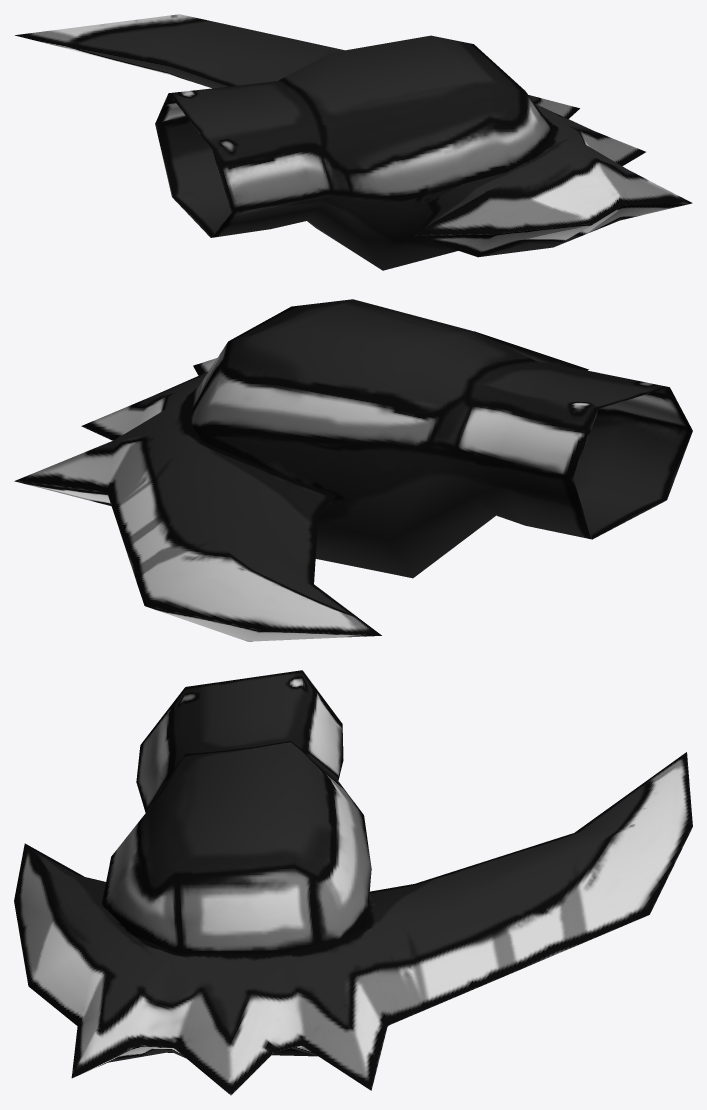
File: WP_0H_Claw02.FBX
3 views of the same model, one above another, from view 1: azimuth 30°, elevation 25°; view 2: azimuth 150°, elevation 25°; view 3: azimuth 270°, elevation 25° (orthographic). The views are drawn at different scales.
Visible parts, largest first — view 1: WP_0H_Claw02; view 2: WP_0H_Claw02; view 3: WP_0H_Claw02.
Boxes of the visible parts, box(x1,y1,x2,y2) form: WP_0H_Claw02: box(15, 14, 692, 270); WP_0H_Claw02: box(14, 299, 692, 641); WP_0H_Claw02: box(14, 670, 692, 1095).
Size of the model in its own units: 60.34 by 24.42 by 66.78.
